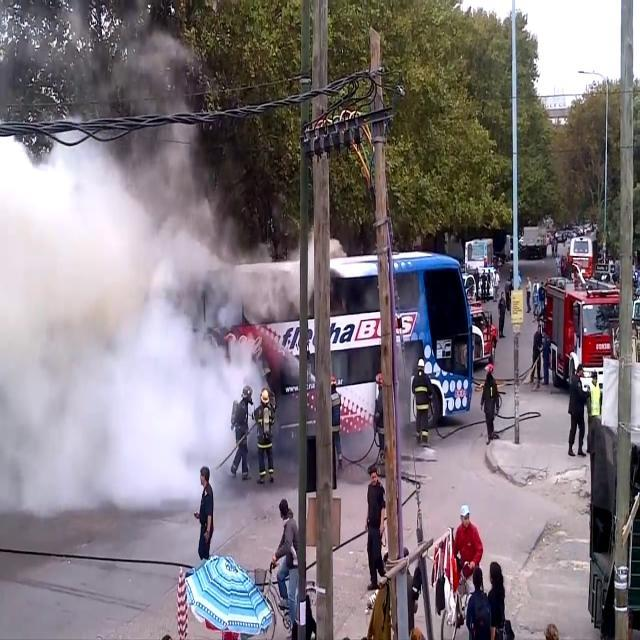Smoke: (0, 117, 264, 530)
